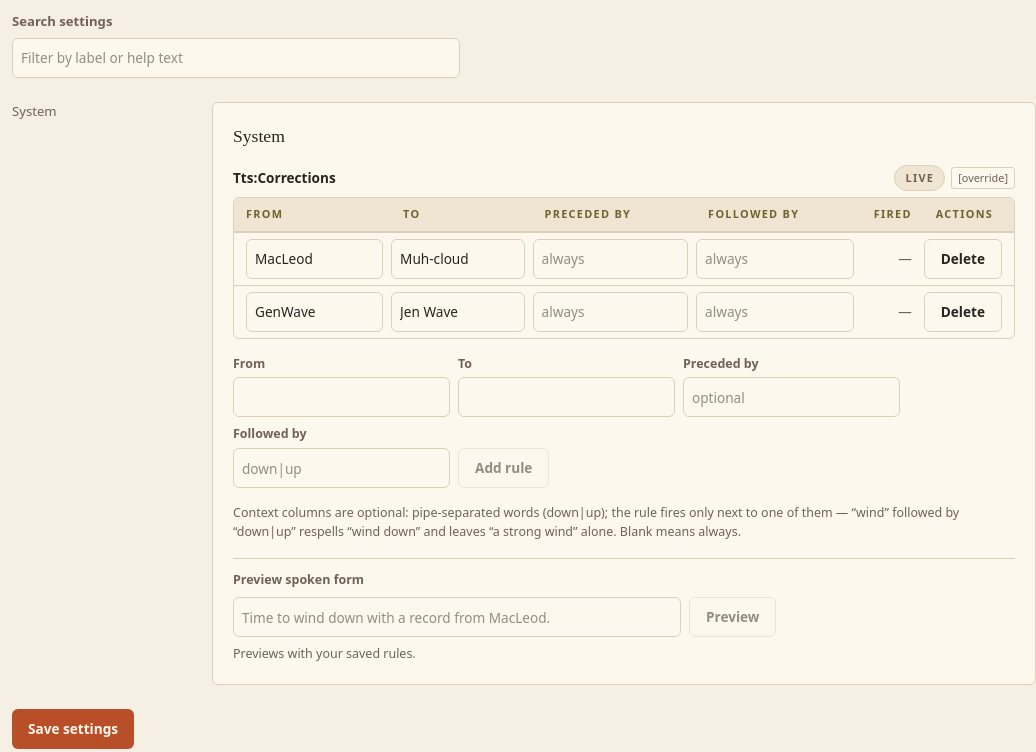
Test: Feature: Tts:Corrections staging is unmistakable › Scenario: editing a context condition stages like any other edit (gh-#161) › marks the form dirty
This screenshot has width=1036, height=752.
Type "down|up" into the field named "Followed-by context for rule 1" at (775, 259), box [696,239,854,279]
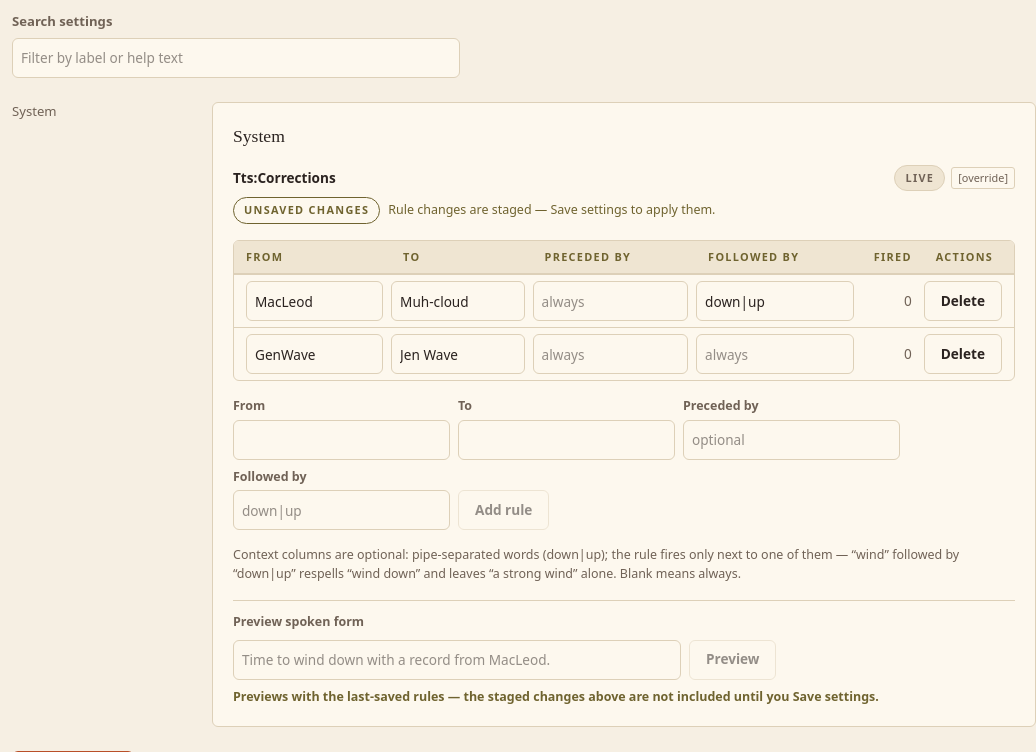
Expected: the message with test id "corrections-dirty-notice" shows "Unsaved changes", [244,202,369,217]
